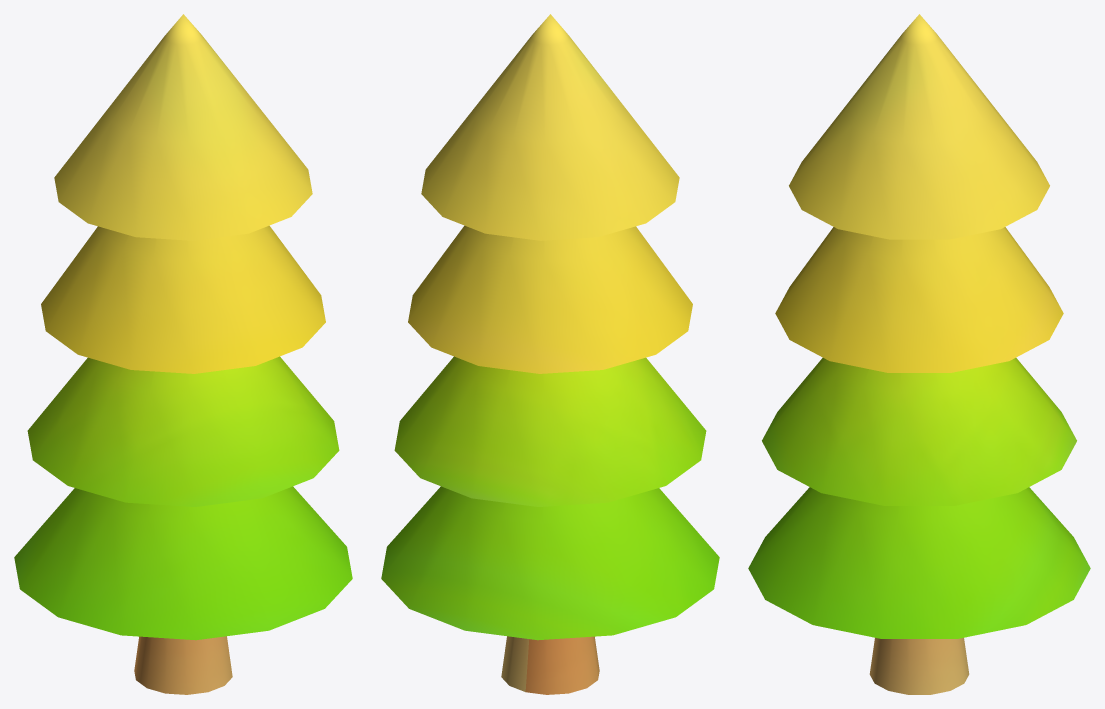
The model's file is Tree_1.fbx.
3 views of the same model, side by side, from view 1: azimuth 30°, elevation 25°; view 2: azimuth 150°, elevation 25°; view 3: azimuth 270°, elevation 25° (orthographic).
Visible parts, largest first — view 1: Tree_1; view 2: Tree_1; view 3: Tree_1.
Part boxes in pixels (left/top/right/bottom): Tree_1: left=14, top=14, right=352, bottom=694; Tree_1: left=381, top=14, right=719, bottom=694; Tree_1: left=748, top=14, right=1090, bottom=694.
Bounding box in the file's own units: 143 × 311 × 146.
Materials: 1 (1 with a texture image).
